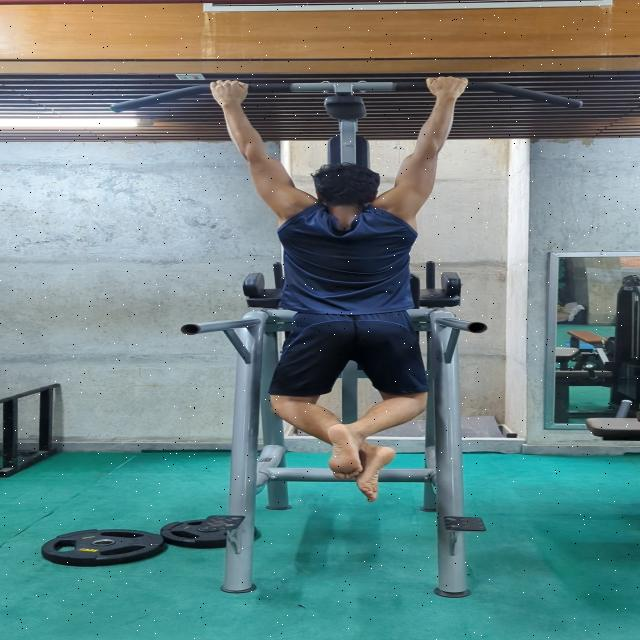Normal_PullUps: (206, 75, 472, 505)
